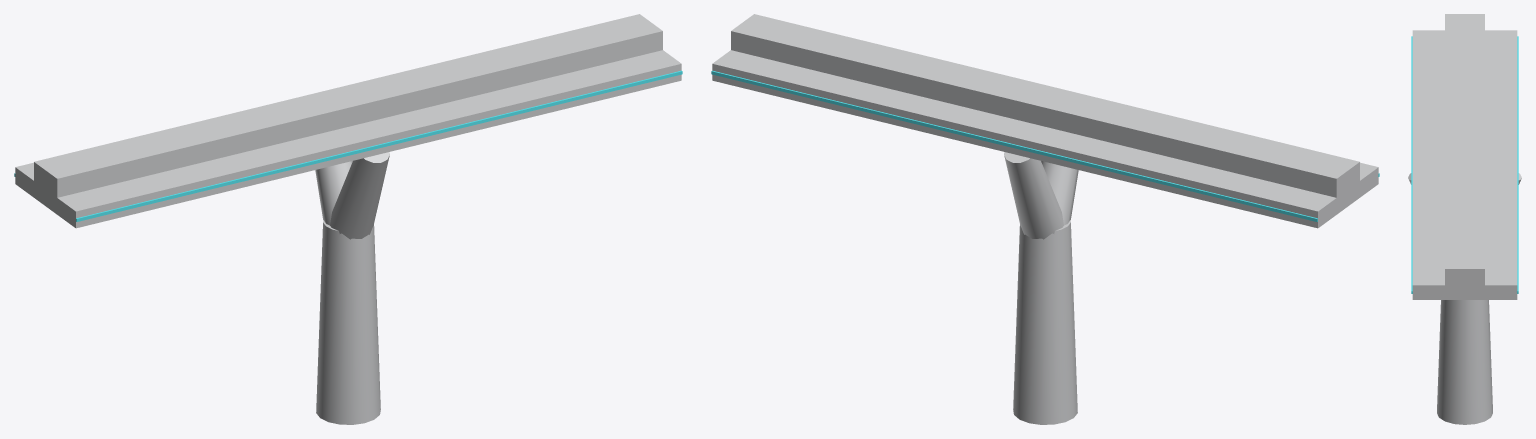
Rendered from SM_MaglevGuideway_30m.fbx.
The picture shows the model from 3 angles, left to right: view 1: azimuth 30°, elevation 25°; view 2: azimuth 150°, elevation 25°; view 3: azimuth 270°, elevation 25°; orthographic projection. The views are drawn at different scales.
Parts seen in each view (by area): view 1: SM_MaglevGuideway_30m; view 2: SM_MaglevGuideway_30m; view 3: SM_MaglevGuideway_30m.
Part boxes in pixels (x1,y1,x2,y2): SM_MaglevGuideway_30m: (14,14,682,424); SM_MaglevGuideway_30m: (711,14,1379,424); SM_MaglevGuideway_30m: (1408,14,1521,424).
Bounding box in the file's own units: 3000 × 1490 × 567.
